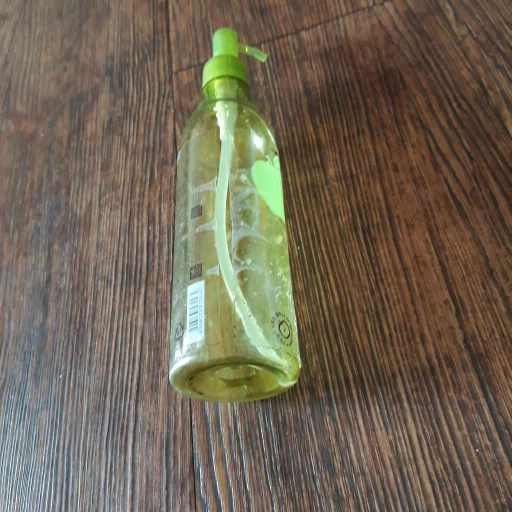Plastic_3: (165, 26, 304, 404)
